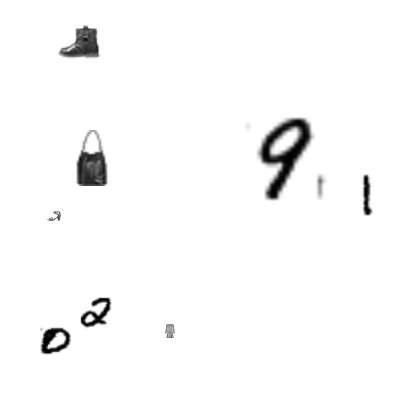1: (26, 103, 138, 215)
3: (73, 215, 101, 243)
4: (111, 344, 125, 358)
5: (344, 13, 400, 69)
6: (129, 162, 157, 190)
7: (31, 37, 87, 93)
Coat: (287, 280, 371, 364)
Pullover: (156, 84, 184, 112)
